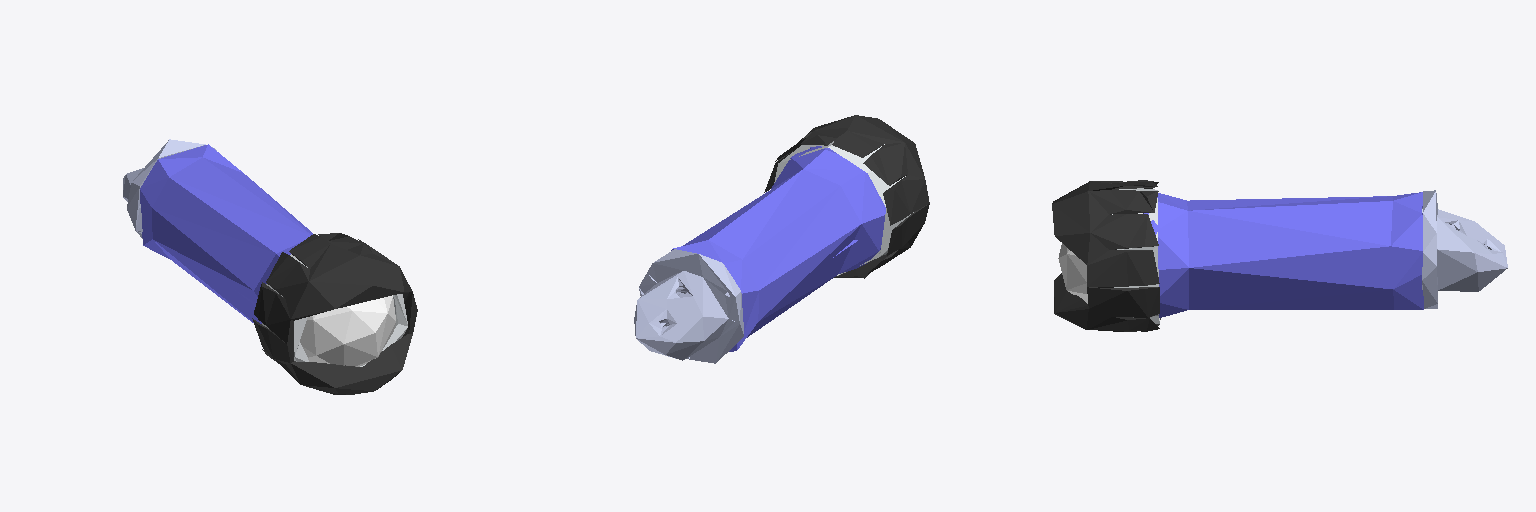
File: bluevolta_light2.obj
The picture shows the model from 3 angles: view 1: azimuth 30°, elevation 25°; view 2: azimuth 150°, elevation 25°; view 3: azimuth 270°, elevation 25°; orthographic projection.
Parts seen in each view (by area): view 1: Blue_Volta-eROV.simplified.V2_OBJ2_11719-9080_1; view 2: Blue_Volta-eROV.simplified.V2_OBJ2_11719-9080_1; view 3: Blue_Volta-eROV.simplified.V2_OBJ2_11719-9080_1.
Part boxes in pixels (x1,y1,x2,y2): Blue_Volta-eROV.simplified.V2_OBJ2_11719-9080_1: (123, 139, 417, 394); Blue_Volta-eROV.simplified.V2_OBJ2_11719-9080_1: (634, 115, 929, 363); Blue_Volta-eROV.simplified.V2_OBJ2_11719-9080_1: (1052, 180, 1507, 331).
Size of the model in its own units: 0.134 by 0.1342 by 0.3987.